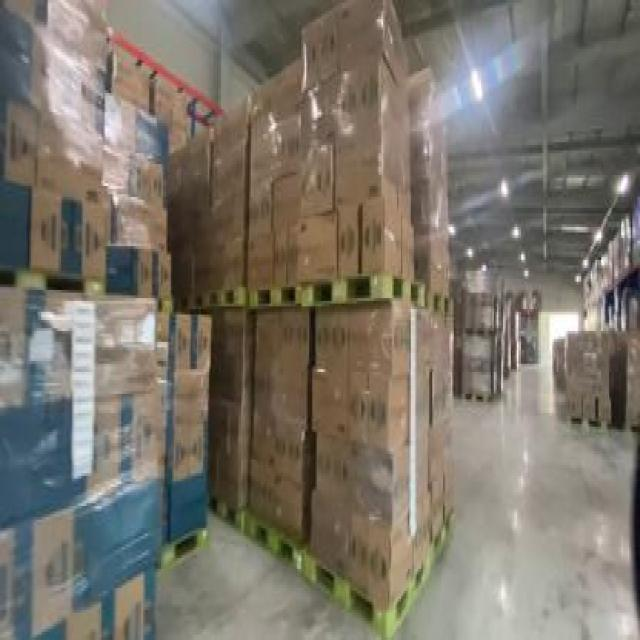box: (168, 3, 462, 637), (0, 0, 222, 635), (445, 263, 523, 402), (544, 328, 638, 443)
